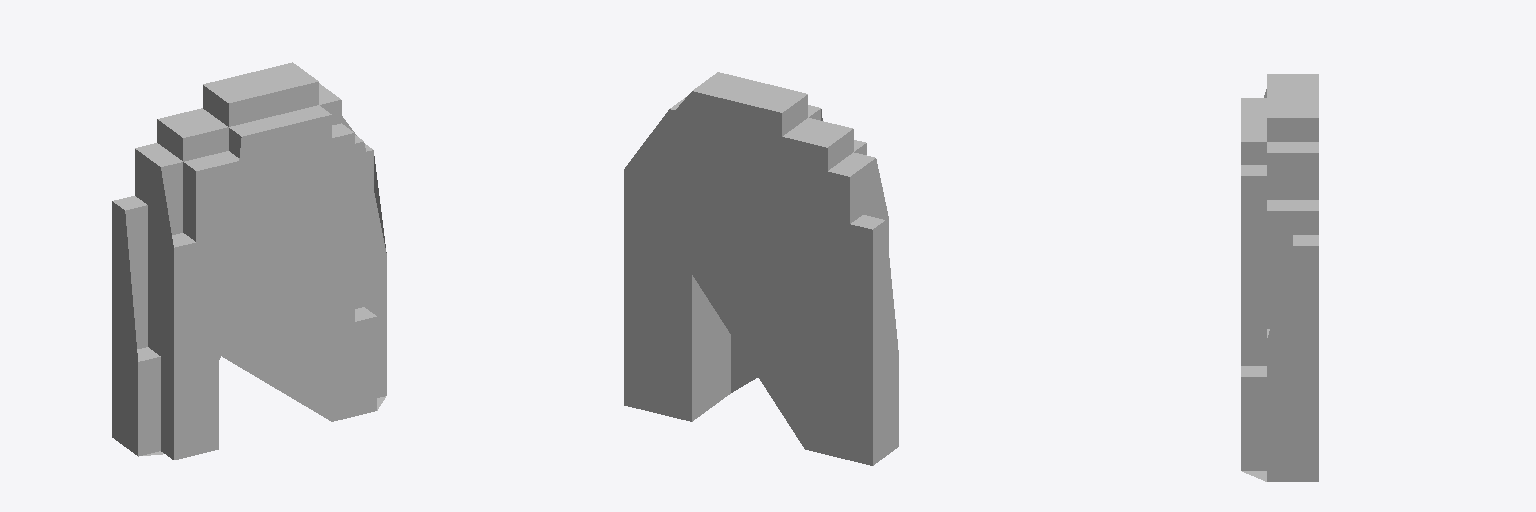
Rendered from Endless light Gate models.obj.
3 renders of one model, left to right at view 1: azimuth 30°, elevation 25°; view 2: azimuth 150°, elevation 25°; view 3: azimuth 270°, elevation 25°, orthographic.
Parts seen in each view (by area): view 1: Exit_cave; view 2: Exit_cave; view 3: Exit_cave.
Part boxes in pixels (x1,y1,x2,y2): Exit_cave: (112,62,386,459); Exit_cave: (624,72,898,465); Exit_cave: (1241,74,1318,481).
Bounding box in the file's own units: 2.2 × 2.8 × 0.6.